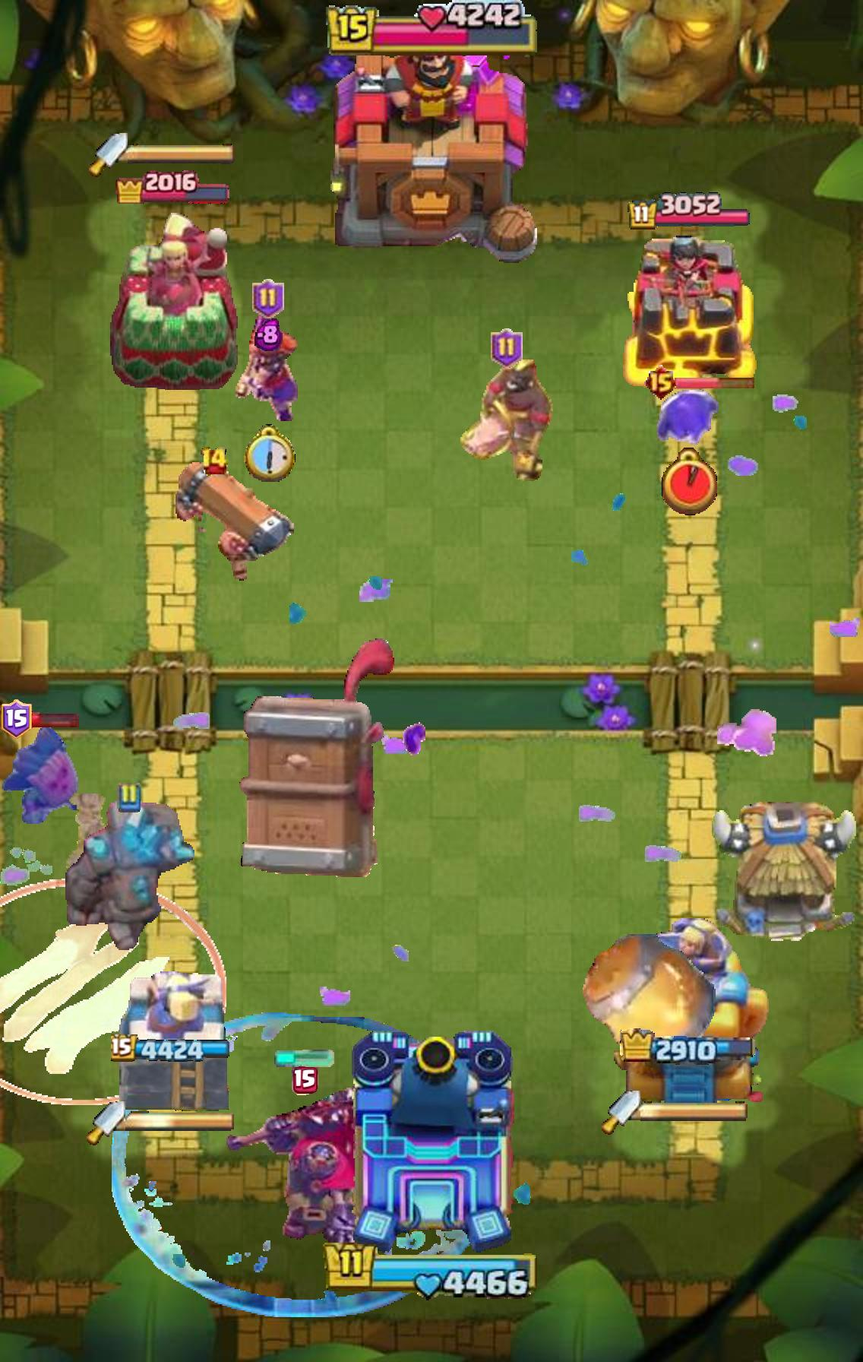bar: (255, 318, 283, 351)
